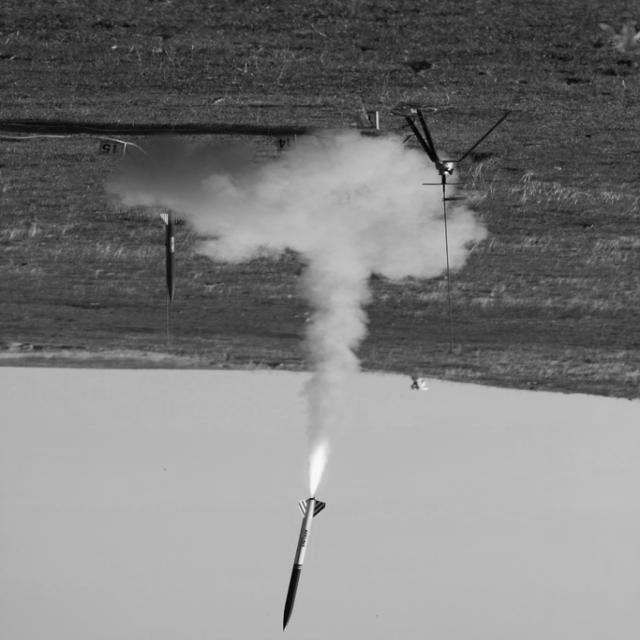Missile: (276, 486, 332, 638), (160, 207, 186, 304)
